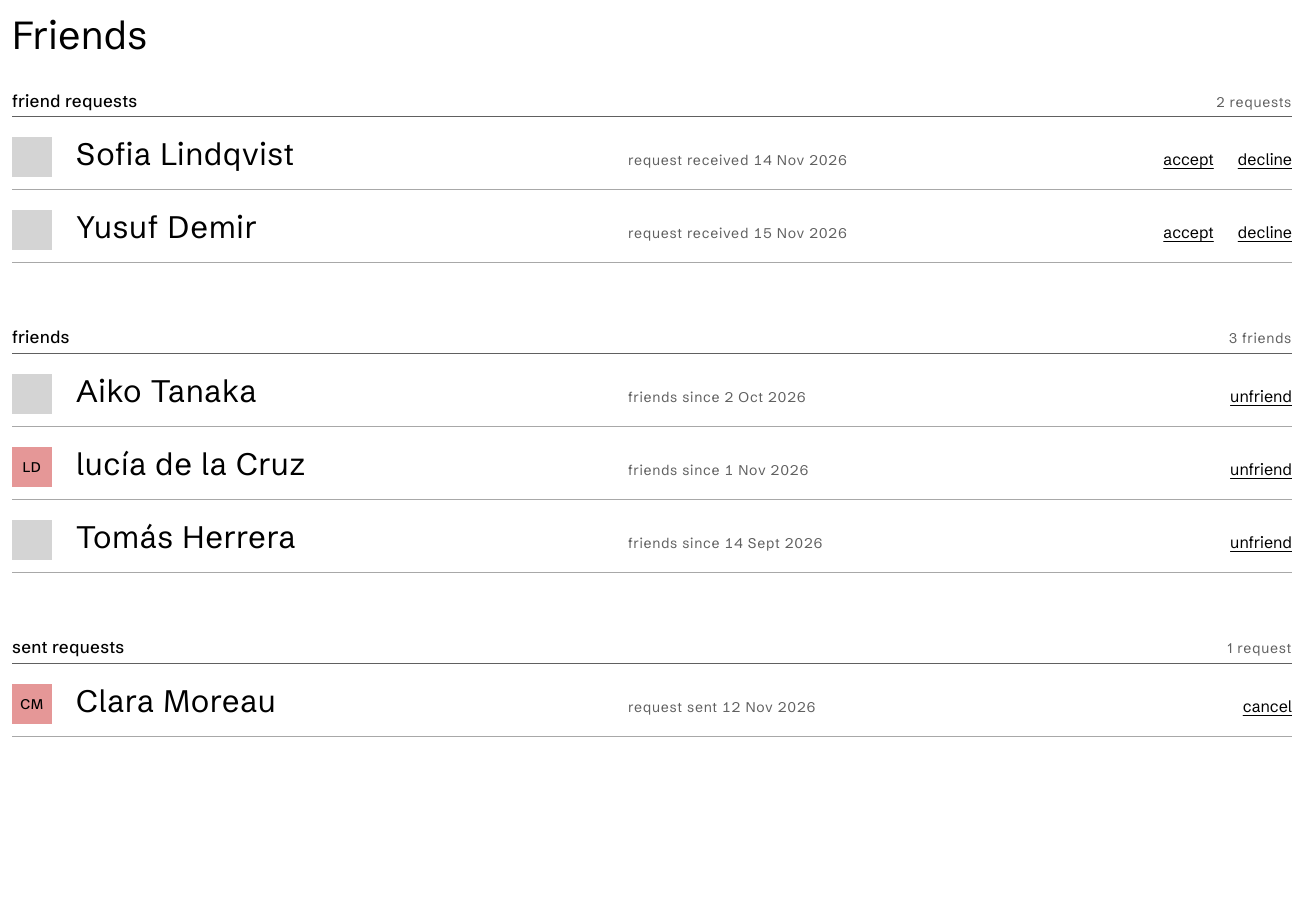
FriendsPage actions (F-49, F-50, F-55, B-26, B-27) › F-53: a failed action that changes nothing keeps the entry and its buttons
The image size is (1304, 912).
Expected: the element "friends" is shown, [12,327,1292,573]
Click the button named "decline request from Yusuf Demir": (1265, 233) [1238,221,1292,245]
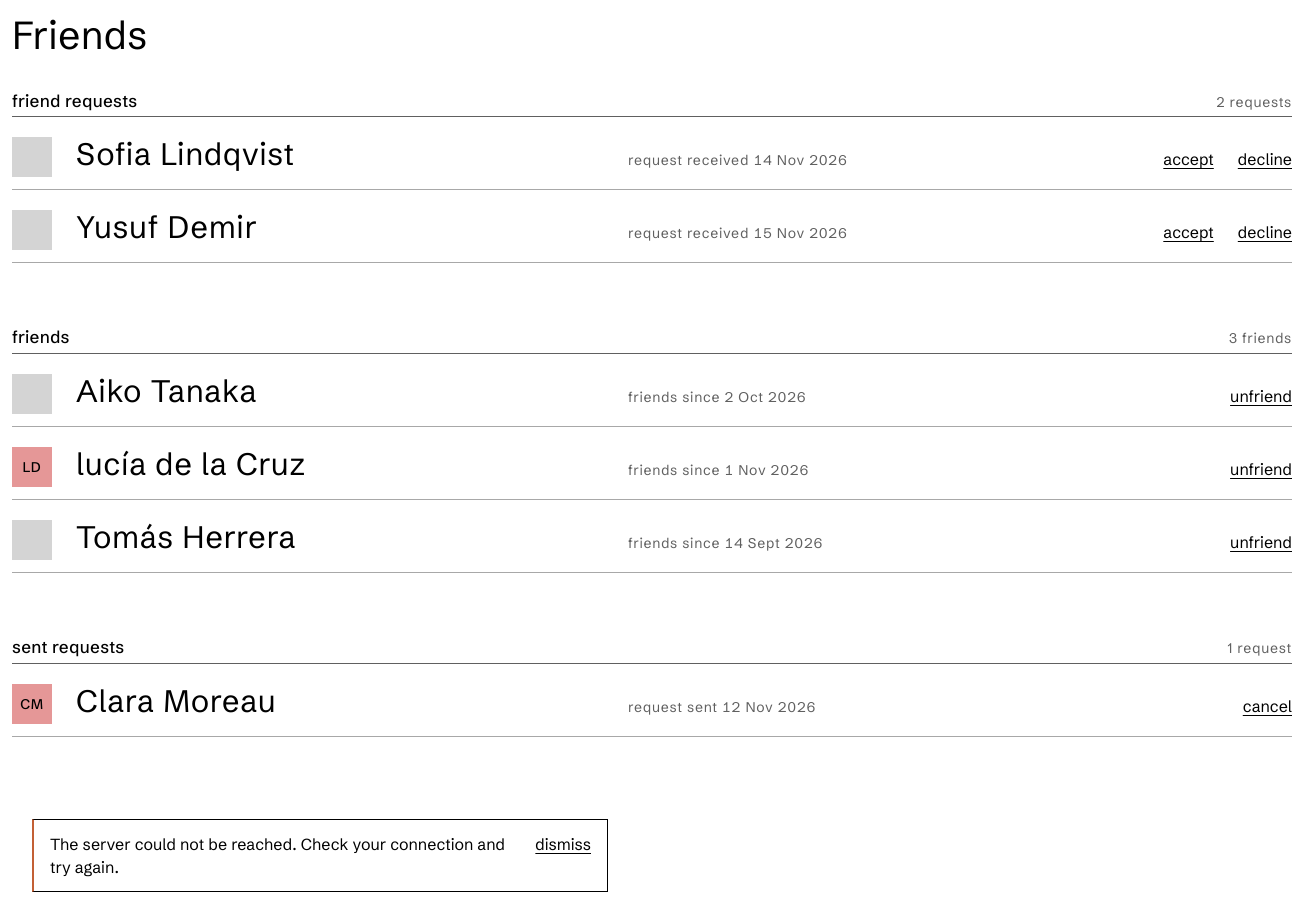
Expected: the message shows "The server could not be reached.", [50,834,505,877]
